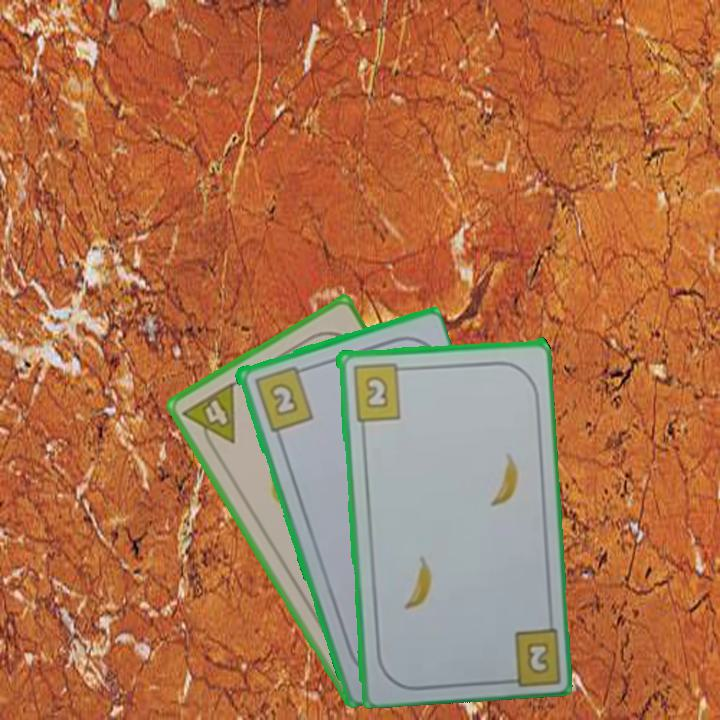2b: (250, 362, 316, 434), (349, 359, 410, 423), (523, 637, 552, 677)
4p: (179, 378, 239, 457)
